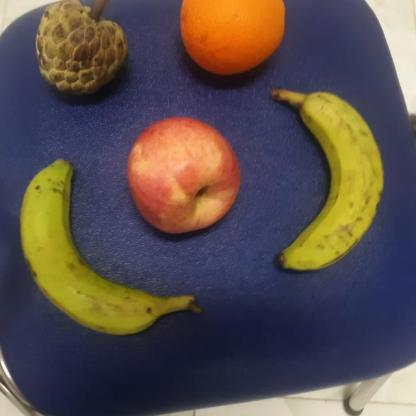annona: (36, 0, 126, 103)
apple: (124, 117, 242, 236)
banana: (17, 155, 205, 338), (267, 86, 388, 275)
orange: (178, 0, 286, 83)
